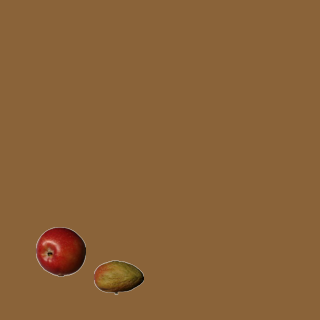Apple Braeburn: (35, 226, 85, 276)
Papaya: (93, 252, 143, 302)
